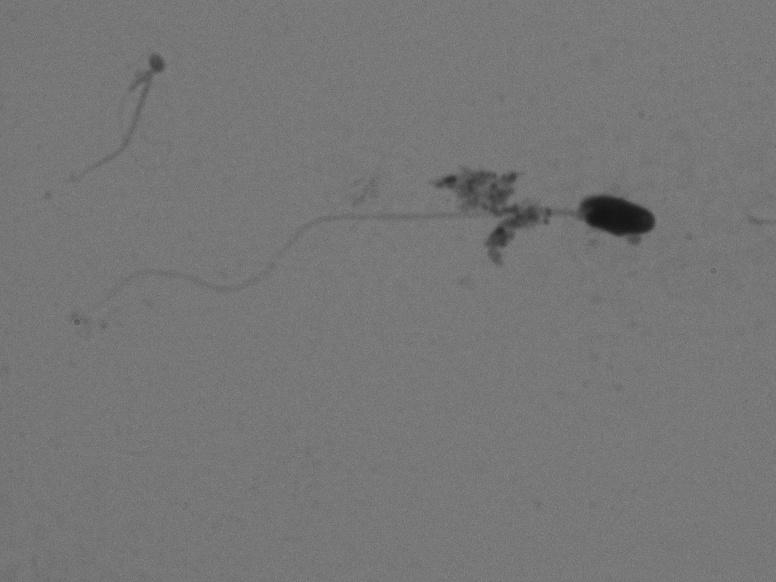Abnormal: (92, 182, 665, 334)
